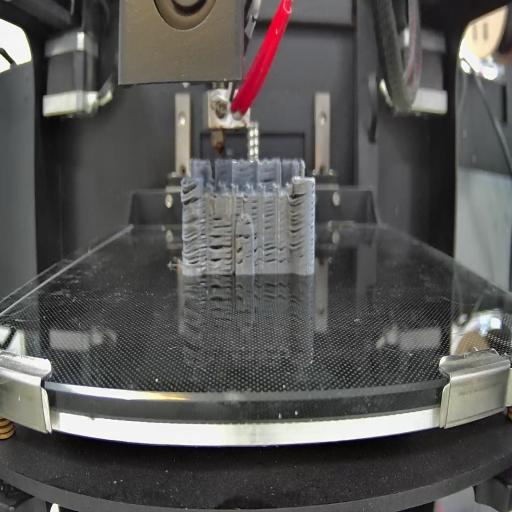cracks: (182, 232, 207, 271), (288, 194, 305, 250), (209, 233, 233, 272), (180, 184, 202, 206), (262, 204, 276, 232), (310, 186, 315, 258), (211, 216, 235, 230), (263, 242, 277, 264), (182, 214, 207, 225), (277, 244, 288, 265), (250, 200, 260, 221), (235, 234, 260, 242), (234, 248, 245, 266), (234, 197, 246, 210), (260, 177, 275, 185), (241, 220, 253, 228), (253, 249, 262, 253)
